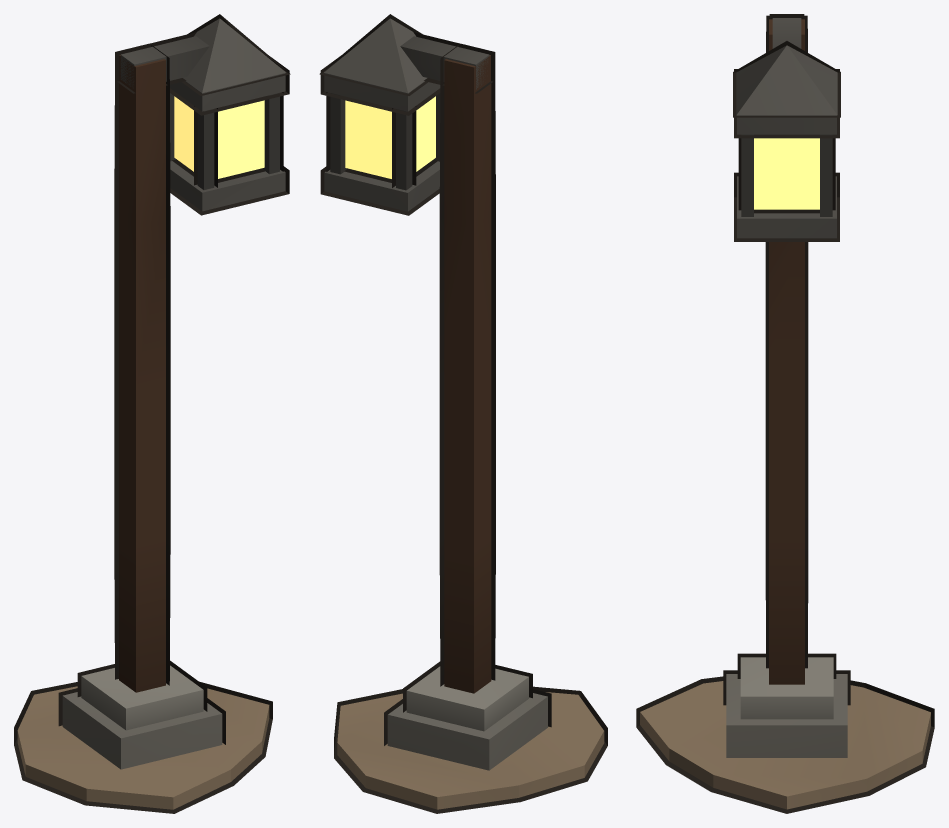
File: lanterne.glb
3 renders of one model, left to right at view 1: azimuth 30°, elevation 25°; view 2: azimuth 150°, elevation 25°; view 3: azimuth 270°, elevation 25°, orthographic. The views are drawn at different scales.
Parts seen in each view (by area): view 1: lanterne, lanterne_outline; view 2: lanterne, lanterne_outline; view 3: lanterne, lanterne_outline.
Boxes of the visible parts, x1,y1,x2,y2 form: lanterne: (17, 18, 285, 809); lanterne_outline: (14, 14, 290, 813); lanterne: (324, 18, 604, 809); lanterne_outline: (319, 14, 607, 813); lanterne: (640, 18, 930, 809); lanterne_outline: (636, 14, 934, 813).
Size of the model in its own units: 0.8397 by 2.3 by 0.8348.
